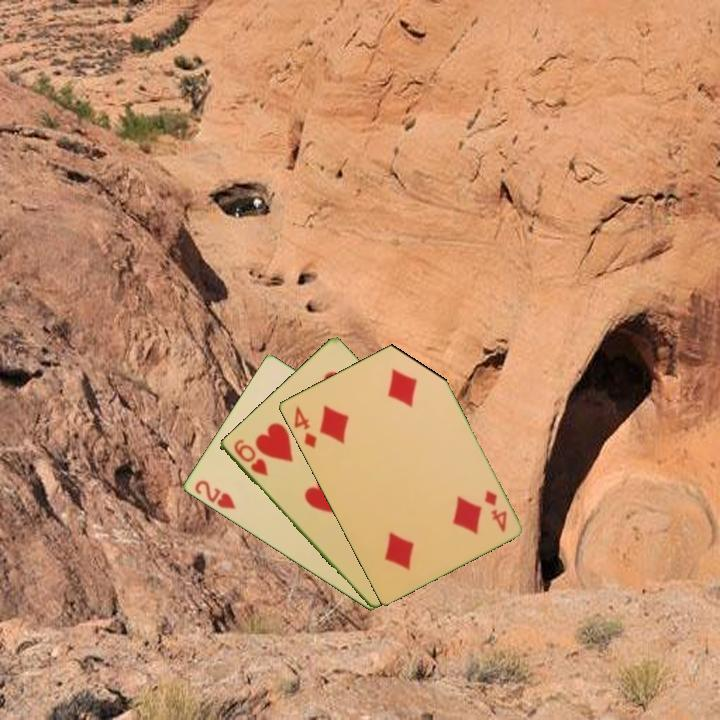2h: (191, 477, 238, 512)
4d: (480, 487, 510, 535), (290, 402, 319, 451)
6h: (230, 435, 271, 479)
